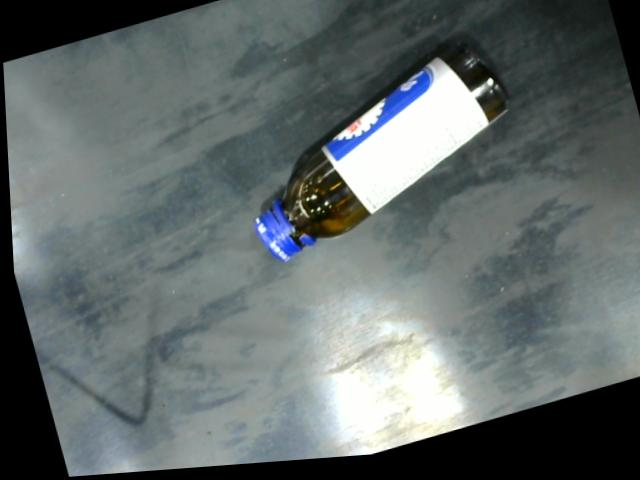glass: (251, 39, 514, 271)
